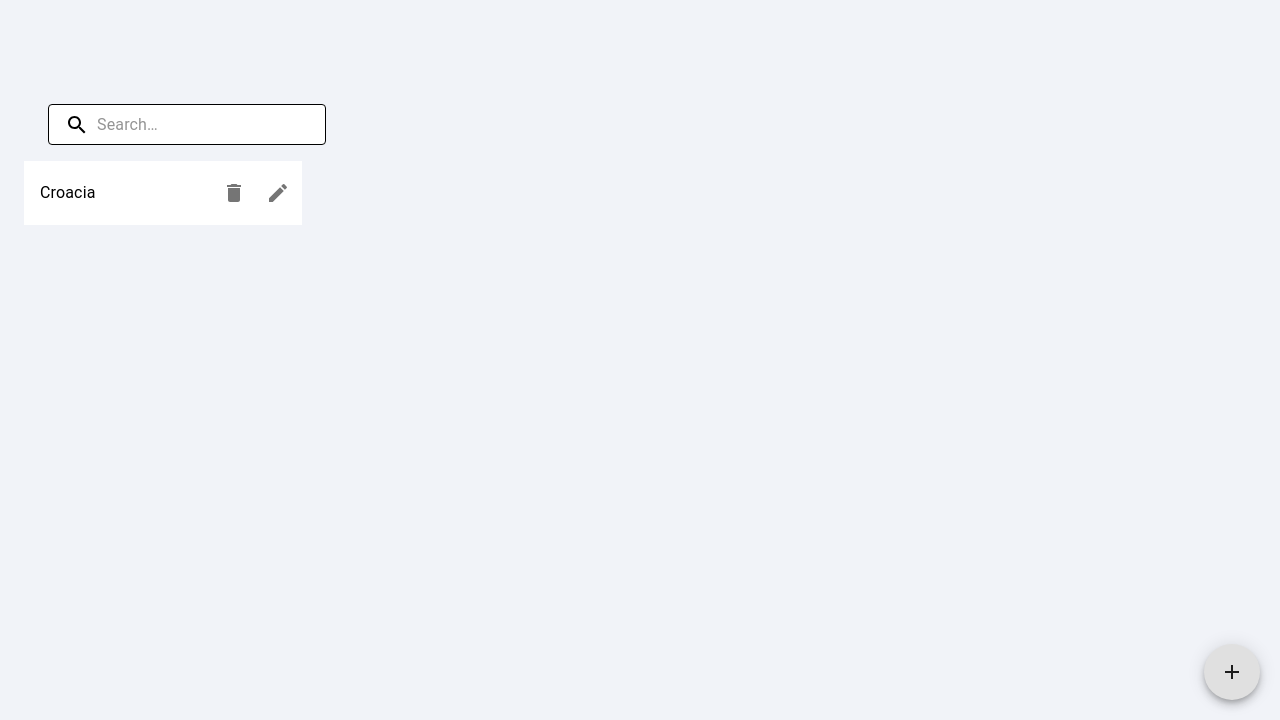
Test case: tests de seleccion › al hacer click en el boton editar, me redirecciona a editar la seleccion
Click the button with test id "botonEditar". click: x=278, y=193
box: [258,173,298,213]
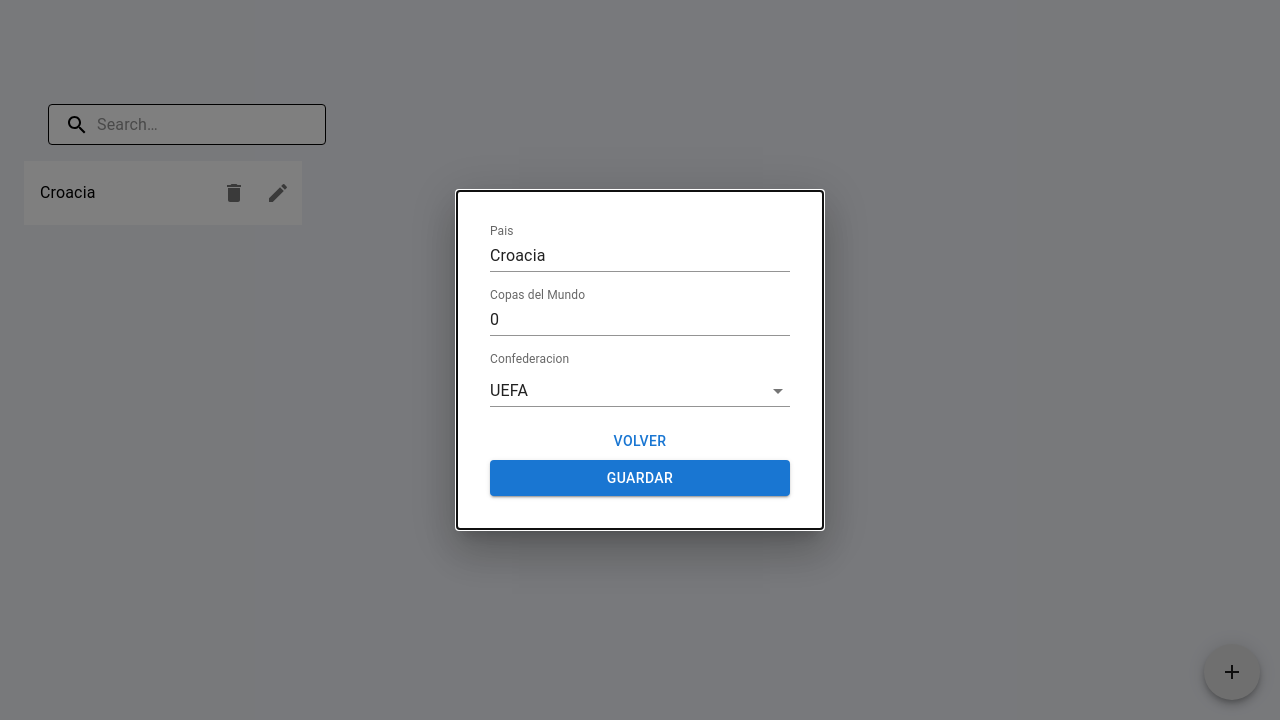
Expected: the field with test id "pais-edit" holds "Croacia", [490,240,790,272]
Expected: the field with test id "copasDelMundo-edit" holds "0", [490,304,790,336]
Expected: the element with test id "confederacion-edit" holds "UEFA", [490,375,790,407]
